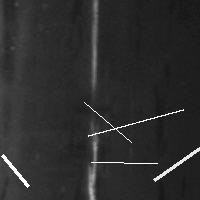scratches: (83, 105, 188, 141), (79, 97, 136, 147), (149, 135, 200, 185), (85, 1, 100, 97), (84, 126, 103, 200), (0, 150, 33, 191), (86, 157, 162, 168)
